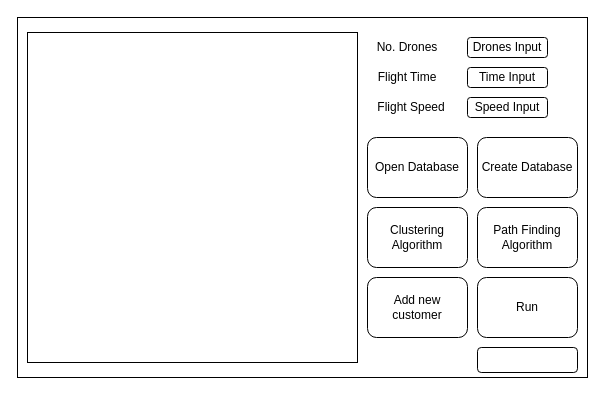
This 605x395 diagram has some shape labels left out. The centre of each missing label's shape, as x and y in pixels:
"Map" goes at (192,197).
"Quit" goes at (527,359).
